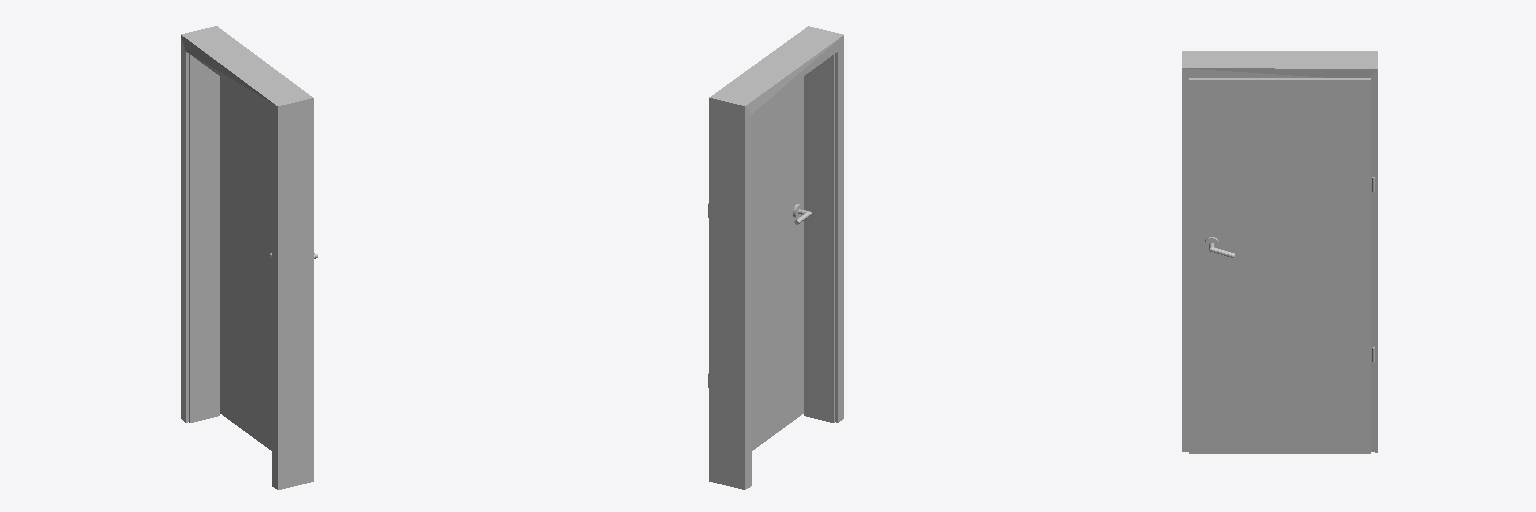
The model's file is door81.obj.
3 renders of one model, left to right at view 1: azimuth 30°, elevation 25°; view 2: azimuth 150°, elevation 25°; view 3: azimuth 270°, elevation 25°, orthographic.
Parts seen in each view (by area): view 1: Cylinder.005, Cylinder.001; view 2: Cylinder.005, Cylinder.001; view 3: Cylinder.001, Cylinder.005.
Boxes of the visible parts, x1,y1,x2,y2 form: Cylinder.005: [181, 26, 313, 489]; Cylinder.001: [220, 77, 271, 450]; Cylinder.005: [708, 26, 843, 489]; Cylinder.001: [708, 77, 803, 450]; Cylinder.001: [1189, 78, 1374, 453]; Cylinder.005: [1182, 51, 1377, 452].
Size of the model in its own units: 0.3039 by 2.05 by 0.95.